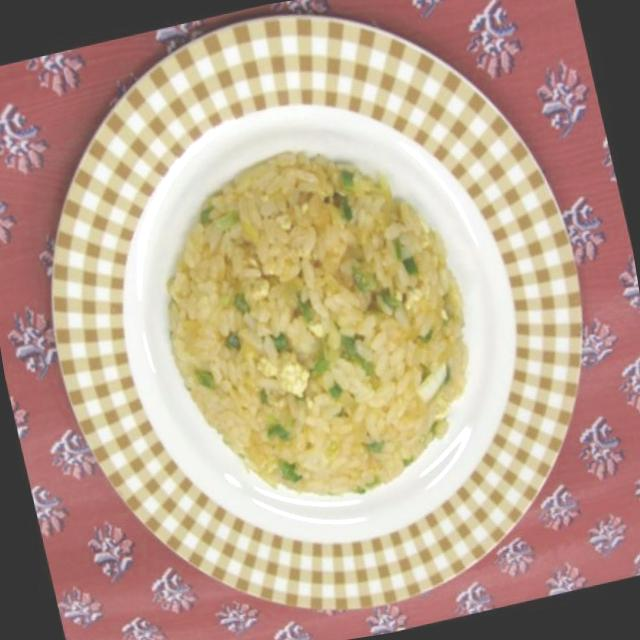Rice: (128, 113, 508, 543)
